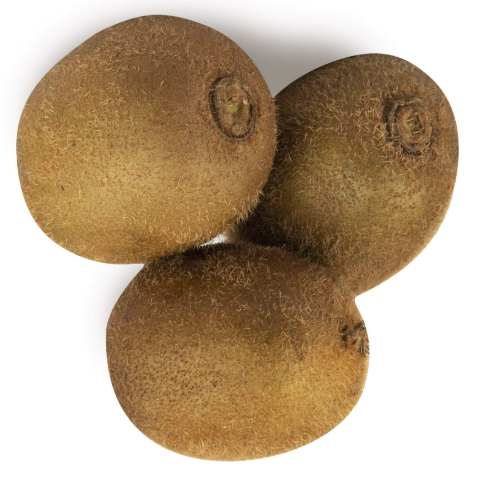kiwi: (1, 7, 303, 283), (80, 237, 374, 474), (214, 25, 449, 296)
